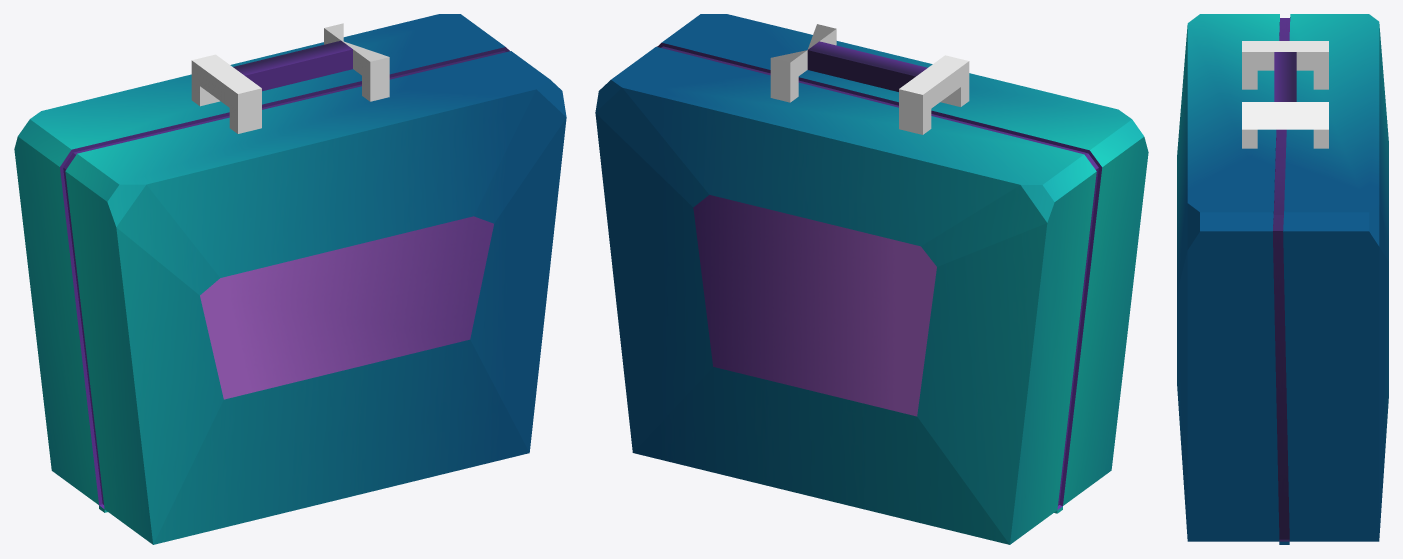
Rendered from SM_Suitcase.fbx.
3 views of the same model, side by side, from view 1: azimuth 30°, elevation 25°; view 2: azimuth 150°, elevation 25°; view 3: azimuth 270°, elevation 25° (orthographic). The views are drawn at different scales.
Parts seen in each view (by area): view 1: SuitCase_Type1, Handle; view 2: SuitCase_Type1, Handle; view 3: SuitCase_Type1, Handle.
Boxes of the visible parts, x1,y1,x2,y2 form: SuitCase_Type1: [14, 14, 566, 544]; Handle: [191, 23, 389, 133]; SuitCase_Type1: [595, 14, 1148, 544]; Handle: [770, 24, 969, 134]; SuitCase_Type1: [1177, 14, 1388, 544]; Handle: [1242, 41, 1328, 148].
Bounding box in the file's own units: 36.16 × 84.68 × 72.13.
